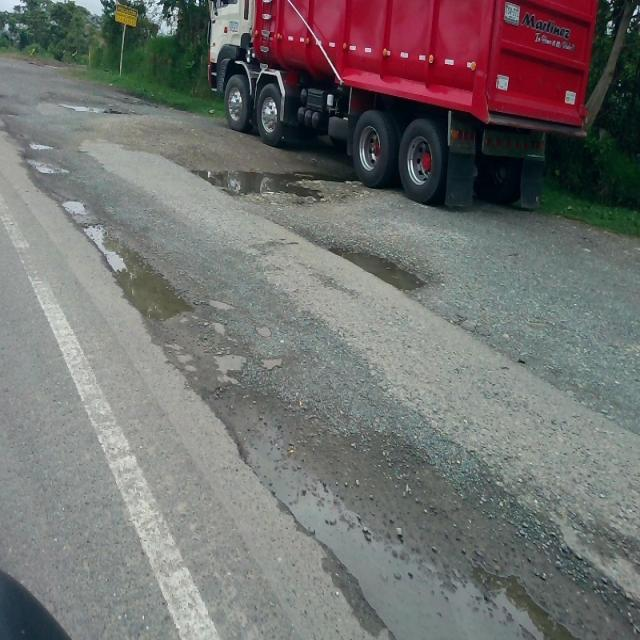DITCH: (5, 114, 638, 638), (1, 158, 638, 638)
